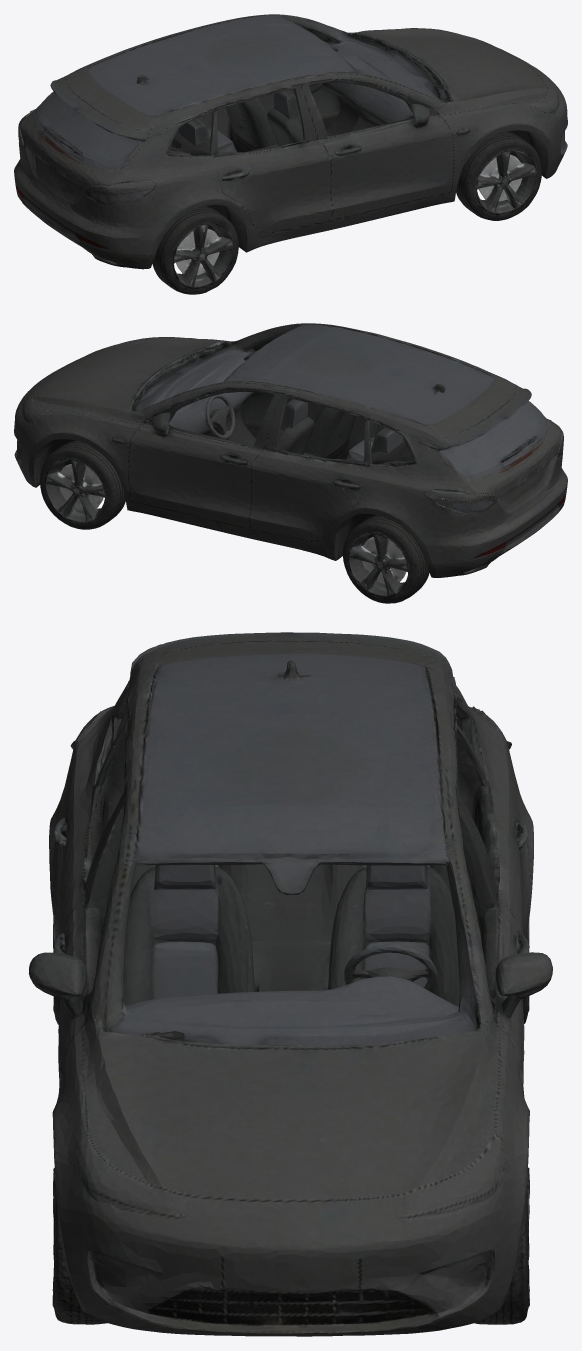
The model's file is black+suv+3d+model.glb.
3 views of the same model, one above another, from view 1: azimuth 30°, elevation 25°; view 2: azimuth 150°, elevation 25°; view 3: azimuth 270°, elevation 25° (orthographic). The views are drawn at different scales.
Visible parts, largest first — view 1: tripo_node_7a149842-9a2d-4d56-ba24-1d9488474992; view 2: tripo_node_7a149842-9a2d-4d56-ba24-1d9488474992; view 3: tripo_node_7a149842-9a2d-4d56-ba24-1d9488474992.
Part boxes in pixels (box(x1,y1,x2,y2)): tripo_node_7a149842-9a2d-4d56-ba24-1d9488474992: box(14, 14, 567, 294); tripo_node_7a149842-9a2d-4d56-ba24-1d9488474992: box(14, 323, 567, 603); tripo_node_7a149842-9a2d-4d56-ba24-1d9488474992: box(29, 632, 552, 1336).
Bounding box in the file's own units: 0.9991 × 0.3404 × 0.4543.
1 material, 1 textured.
